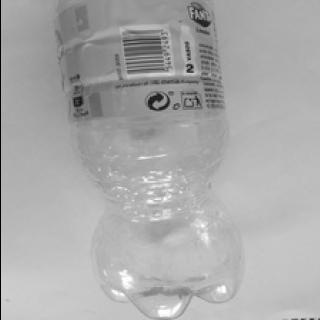plastic_bottles: (49, 0, 243, 311)
